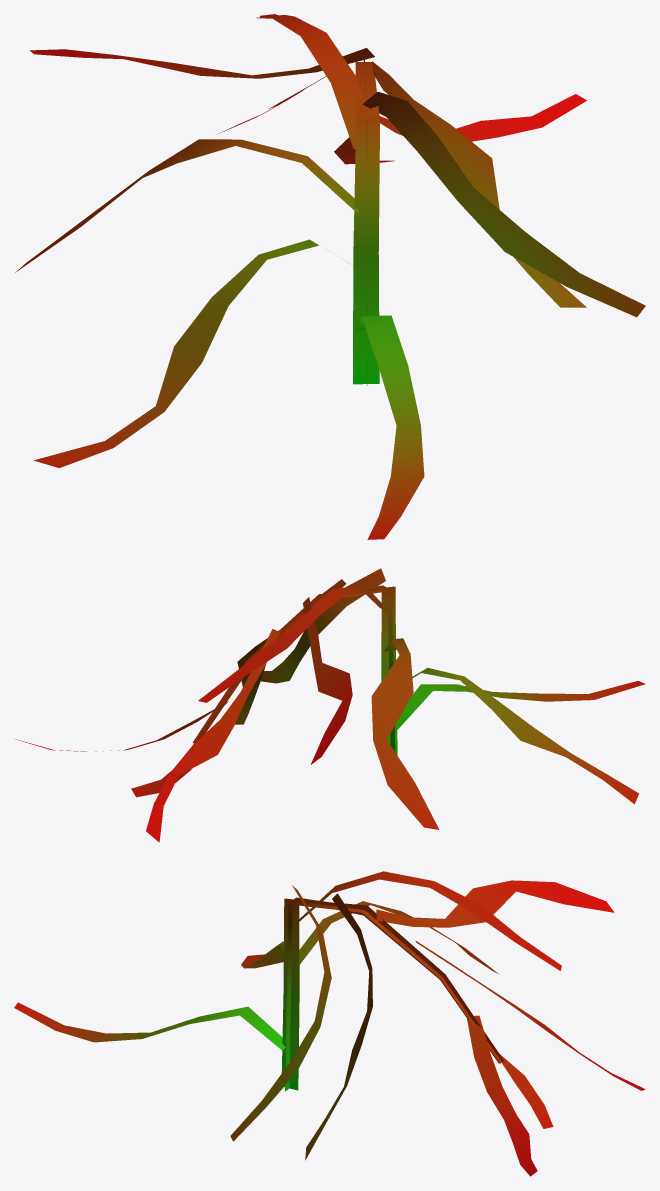
Rendered from Great Brome_LOD2_Var7_tjugaikia.fbx.
3 renders of one model, top to bottom at view 1: azimuth 30°, elevation 25°; view 2: azimuth 150°, elevation 25°; view 3: azimuth 270°, elevation 25°, orthographic. The views are drawn at different scales.
Parts seen in each view (by area): view 1: _2017_Var7_LOD2; view 2: _2017_Var7_LOD2; view 3: _2017_Var7_LOD2.
Part boxes in pixels (<box>): _2017_Var7_LOD2: <box>15,14,645,539</box>; _2017_Var7_LOD2: <box>15,568,645,842</box>; _2017_Var7_LOD2: <box>14,871,645,1176</box>.
Size of the model in its own units: 66.7 by 26.1 by 68.95.
